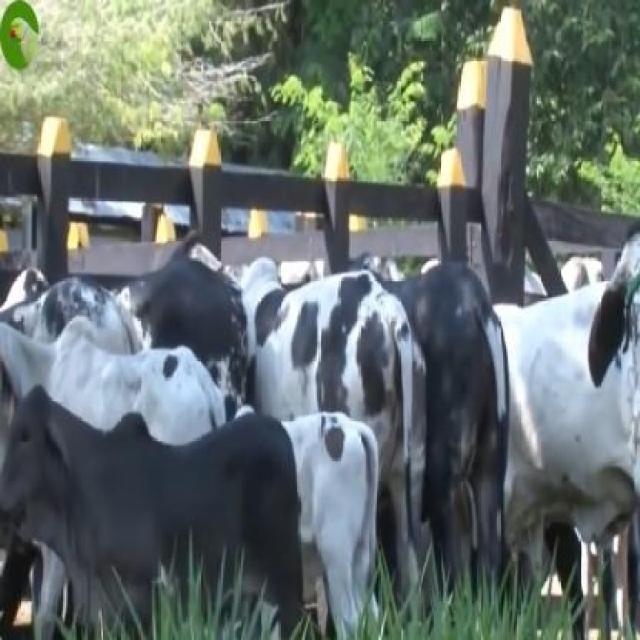Cow: (0, 383, 300, 639)
